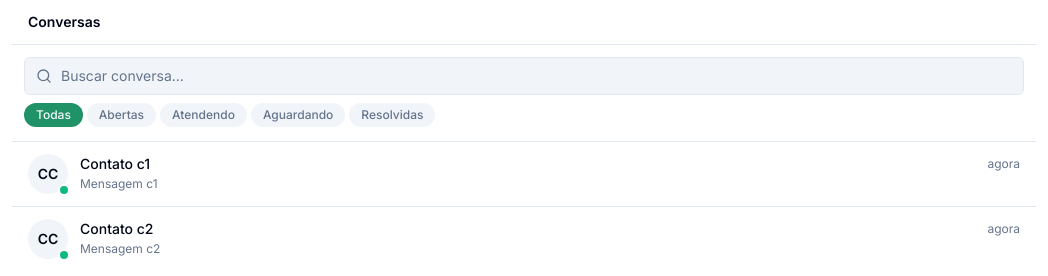
Test case: ConversationList › filtra conversas por busca (telefone)
In the field with test id "search-input": (524, 76) [24,57,1024,95], type "11999"
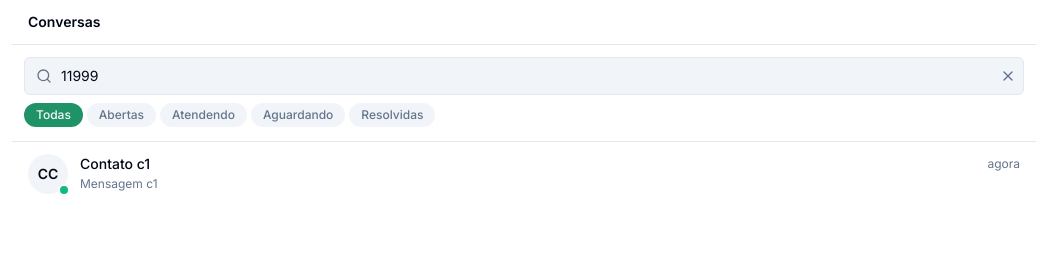
Now the number of buttons with test id "conversation-item" is 1, box [12,142,1036,206]
